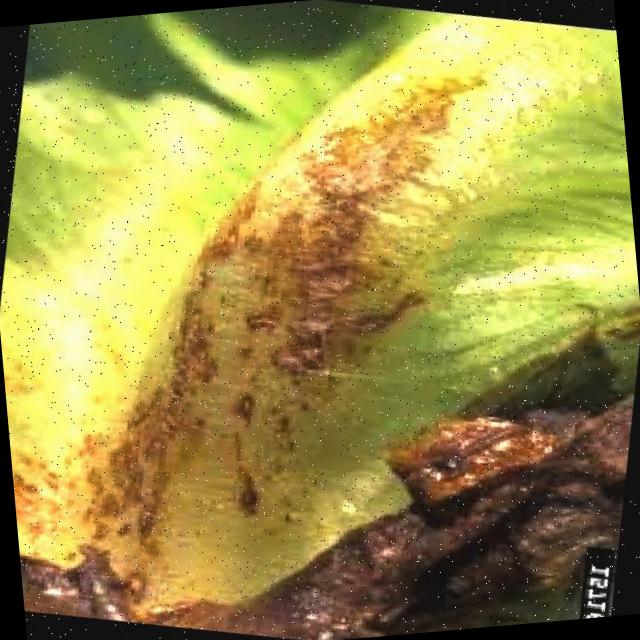Septoria_Blight: (39, 0, 640, 640)
